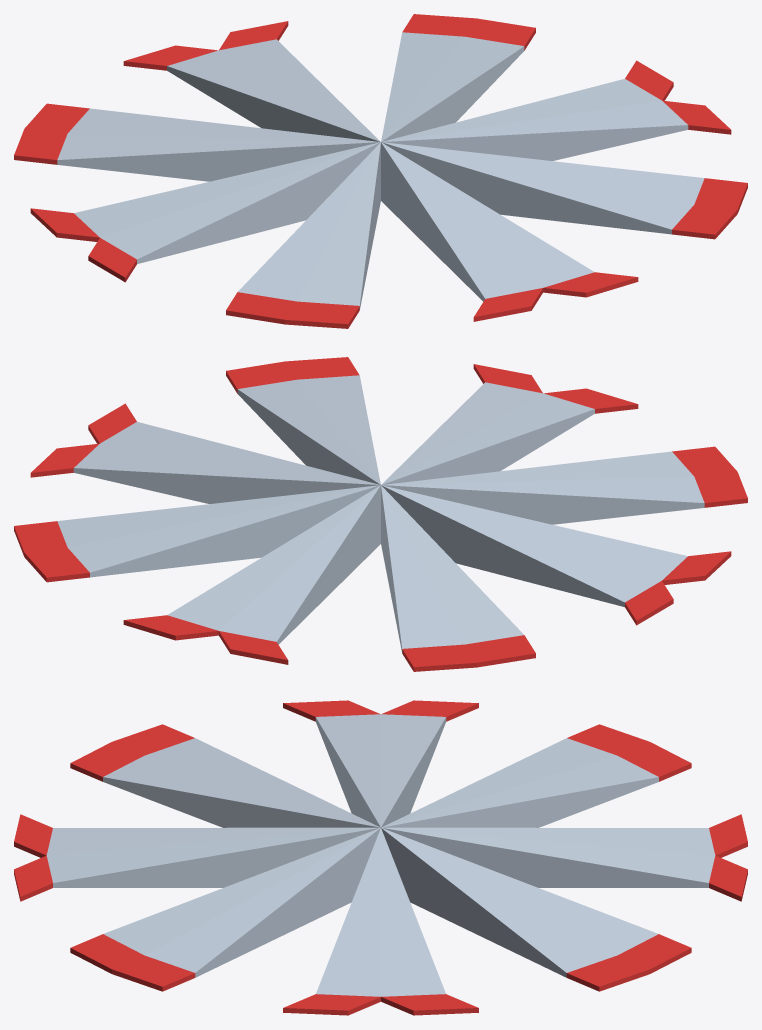
The model's file is Projectile.fbx.
3 renders of one model, top to bottom at view 1: azimuth 30°, elevation 25°; view 2: azimuth 150°, elevation 25°; view 3: azimuth 270°, elevation 25°, orthographic. The views are drawn at different scales.
Parts seen in each view (by area): view 1: Cylinder.002; view 2: Cylinder.002; view 3: Cylinder.002.
Boxes of the visible parts, bbox=[...] form: Cylinder.002: bbox=[14, 14, 747, 328]; Cylinder.002: bbox=[14, 357, 747, 671]; Cylinder.002: bbox=[14, 700, 747, 1015].
Size of the model in its own units: 110 by 10 by 110.
